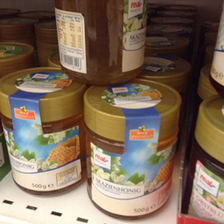honey: (84, 77, 185, 218), (1, 65, 87, 198), (51, 1, 153, 82)
